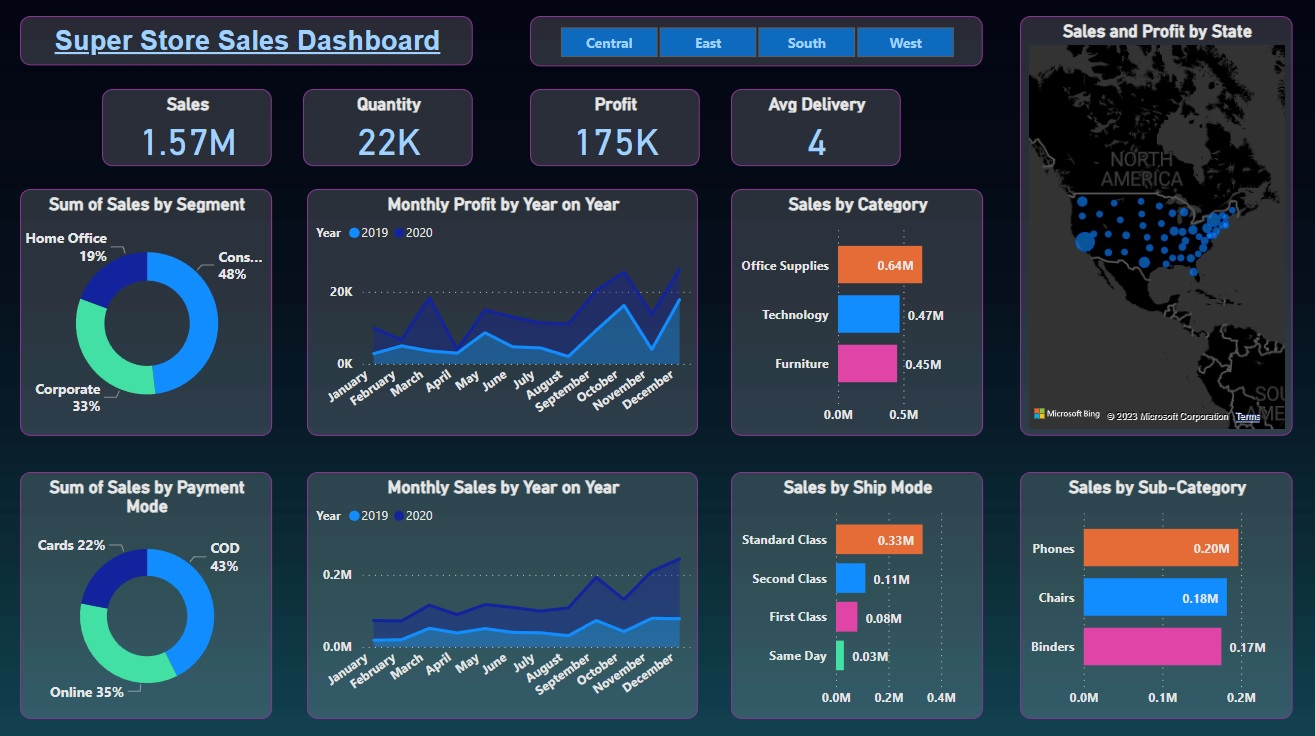

This screenshot's page, from the dashboard's own definition file:
{"tool":"powerbi","page":{"name":"Page 1","canvas":[1280,720],"ordinal":0},"visuals":[{"type":"clusteredBarChart","title":"Sales by Category","fields":{"Category":["SuperStore_Sales_Dataset.Category"],"Y":["Sum(SuperStore_Sales_Dataset.Sales)"]},"box":[711.4,186.6,245,240.1],"z":0},{"type":"clusteredBarChart","title":"Sales by Sub-Category","fields":{"Y":["Sum(SuperStore_Sales_Dataset.Sales)"],"Category":["SuperStore_Sales_Dataset.Sub-Category"]},"box":[992.3,461.7,265.3,240.1],"z":1000},{"type":"clusteredBarChart","title":"Sales by Ship Mode","fields":{"Y":["Sum(SuperStore_Sales_Dataset.Sales)"],"Category":["SuperStore_Sales_Dataset.Ship Mode"]},"box":[711.4,461.7,245,240.1],"z":2000},{"type":"stackedAreaChart","title":"Monthly Sales by Year on Year","fields":{"Y":["Sum(SuperStore_Sales_Dataset.Sales)"],"Category":["SuperStore_Sales_Dataset.Order Date.Variation.Date Hierarchy.Month","SuperStore_Sales_Dataset.Order Date.Variation.Date Hierarchy.Day"],"Series":["SuperStore_Sales_Dataset.Order Date.Variation.Date Hierarchy.Year"]},"box":[299.3,461.7,380,240.1],"z":3000},{"type":"stackedAreaChart","title":"Monthly Profit by Year on Year","fields":{"Category":["SuperStore_Sales_Dataset.Order Date.Variation.Date Hierarchy.Month","SuperStore_Sales_Dataset.Order Date.Variation.Date Hierarchy.Day"],"Series":["SuperStore_Sales_Dataset.Order Date.Variation.Date Hierarchy.Year"],"Y":["Sum(SuperStore_Sales_Dataset.Profit)"]},"box":[299.3,186.6,380,240],"z":4000},{"type":"map","title":"Sales and Profit by State","fields":{"Category":["SuperStore_Sales_Dataset.State"],"Size":["Sum(SuperStore_Sales_Dataset.Sales)"]},"box":[992.3,18.5,265.3,408.2],"z":5000},{"type":"donutChart","fields":{"Y":["Sum(SuperStore_Sales_Dataset.Sales)"],"Category":["SuperStore_Sales_Dataset.Payment Mode"]},"box":[20.4,461.7,245,240.1],"z":6000},{"type":"donutChart","fields":{"Category":["SuperStore_Sales_Dataset.Segment"],"Y":["Sum(SuperStore_Sales_Dataset.Sales)"]},"box":[20.4,186.6,245,240.1],"z":7000},{"type":"slicer","fields":{"Values":["SuperStore_Sales_Dataset.Region"]},"box":[516.1,18.5,440,48.6],"z":8000},{"type":"textbox","box":[20.4,18.5,440.3,48],"z":9000},{"type":"card","title":"Sales","fields":{"Values":["Sum(SuperStore_Sales_Dataset.Sales)"]},"box":[100.1,89.4,165.2,74.8],"z":10000},{"type":"card","title":"Quantity","fields":{"Values":["Sum(SuperStore_Sales_Dataset.Quantity)"]},"box":[295.5,89.4,165.2,74.8],"z":11000},{"type":"card","title":"Profit","fields":{"Values":["Sum(SuperStore_Sales_Dataset.Profit)"]},"box":[516.1,89.4,165.2,74.8],"z":12000},{"type":"card","title":"Avg Delivery","fields":{"Values":["Avg(SuperStore_Sales_Dataset.Avg Delivery)"]},"box":[711.4,89.4,165.2,74.8],"z":13000}]}

Visuals, with their boxes in screenshot pixels (x1, y1, x2, y2), scaled from the page's 1280x720 canvas onto the 1315x736 screenshot:
"Sales by Category" clusteredBarChart: <bbox>731, 191, 983, 436</bbox>
"Sales by Sub-Category" clusteredBarChart: <bbox>1019, 472, 1292, 717</bbox>
"Sales by Ship Mode" clusteredBarChart: <bbox>731, 472, 983, 717</bbox>
"Monthly Sales by Year on Year" stackedAreaChart: <bbox>307, 472, 698, 717</bbox>
"Monthly Profit by Year on Year" stackedAreaChart: <bbox>307, 191, 698, 436</bbox>
"Sales and Profit by State" map: <bbox>1019, 19, 1292, 436</bbox>
donutChart - Sum(SuperStore_Sales_Dataset.Sales) x SuperStore_Sales_Dataset.Payment Mode: <bbox>21, 472, 273, 717</bbox>
donutChart - SuperStore_Sales_Dataset.Segment x Sum(SuperStore_Sales_Dataset.Sales): <bbox>21, 191, 273, 436</bbox>
slicer - SuperStore_Sales_Dataset.Region: <bbox>530, 19, 982, 69</bbox>
textbox: <bbox>21, 19, 473, 68</bbox>
"Sales" card: <bbox>103, 91, 273, 168</bbox>
"Quantity" card: <bbox>304, 91, 473, 168</bbox>
"Profit" card: <bbox>530, 91, 700, 168</bbox>
"Avg Delivery" card: <bbox>731, 91, 901, 168</bbox>
